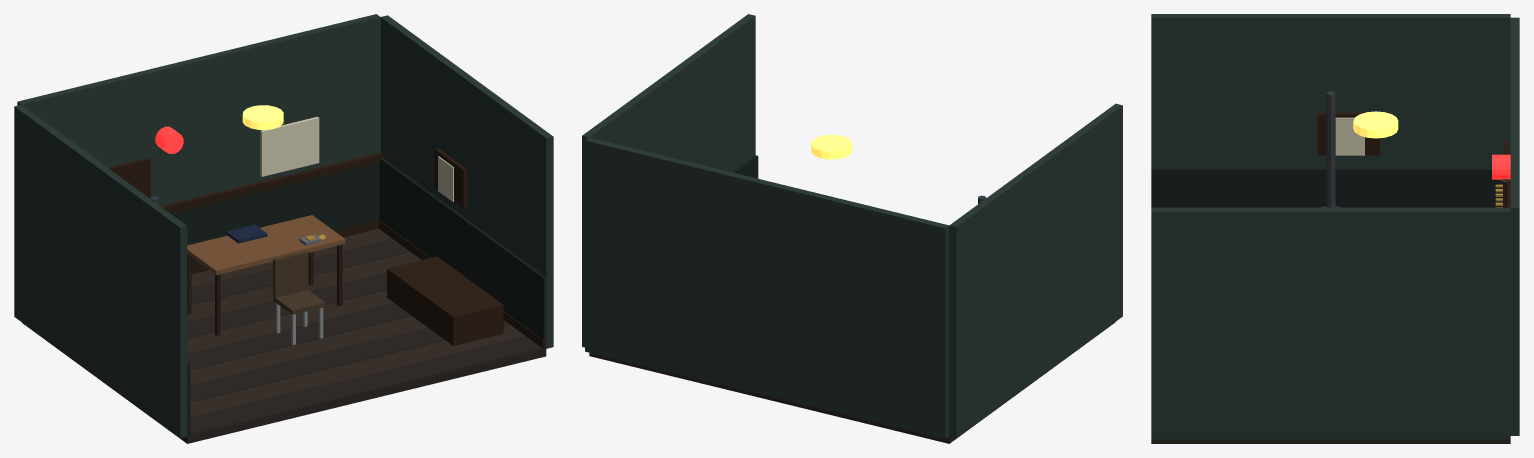
File: guard.glb
The picture shows the model from 3 angles, left to right: view 1: azimuth 30°, elevation 25°; view 2: azimuth 150°, elevation 25°; view 3: azimuth 270°, elevation 25°; orthographic projection. The views are drawn at different scales.
Parts seen in each view (by area): view 1: WallLeft, WallBack, WallRight, BandRight, BandBack, Cot, Plank0, Plank1, DeskTop, Plank2, Plank3, Plank4 (+16 smaller); view 2: WallBack, WallLeft, WallRight, Floor, Lamp; view 3: WallRight, WallLeft, BandLeft, WallBack, Floor, StoveFlue, Lamp, P_h_conductor_report, ReportBoard, SignalLamp.
Boxes of the visible parts, x1,y1,x2,y2 form: WallLeft: (14, 104, 187, 437); WallBack: (17, 14, 380, 205); WallRight: (380, 15, 553, 348); BandRight: (379, 158, 546, 340); BandBack: (170, 162, 379, 265); Cot: (387, 256, 503, 345); Plank0: (190, 337, 542, 434); Plank1: (190, 324, 525, 418); DeskTop: (187, 215, 345, 275); Plank2: (190, 320, 509, 402); Plank3: (190, 316, 427, 386); Plank4: (187, 304, 411, 370); WallBack: (585, 137, 949, 439); WallLeft: (949, 103, 1122, 437); WallRight: (582, 14, 755, 347); Floor: (589, 322, 1115, 443); Lamp: (811, 134, 852, 159); WallRight: (1151, 207, 1510, 439); WallLeft: (1151, 14, 1510, 168); BandLeft: (1151, 168, 1502, 207); WallBack: (1510, 17, 1519, 435); Floor: (1151, 439, 1510, 443); StoveFlue: (1326, 91, 1335, 207); Lamp: (1353, 111, 1398, 138); P_h_conductor_report: (1335, 117, 1364, 155); ReportBoard: (1317, 112, 1380, 155); SignalLamp: (1492, 154, 1510, 179).
Size of the model in its own units: 5.2 by 2.9 by 4.1.
